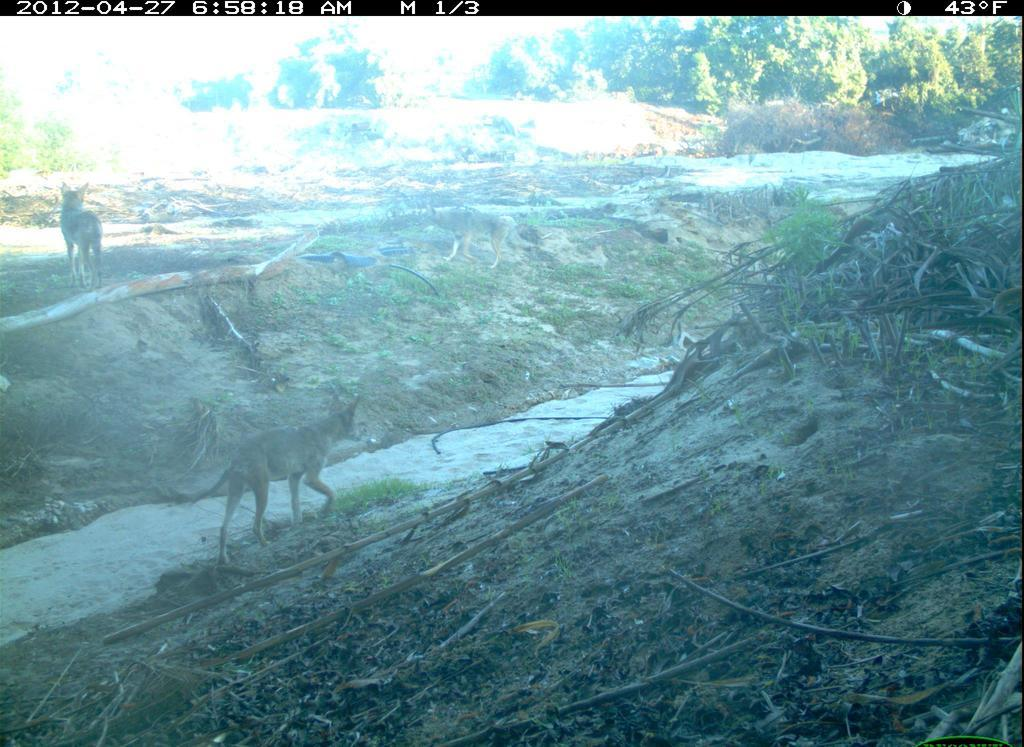coyote: (185, 395, 376, 567), (53, 175, 120, 296)
